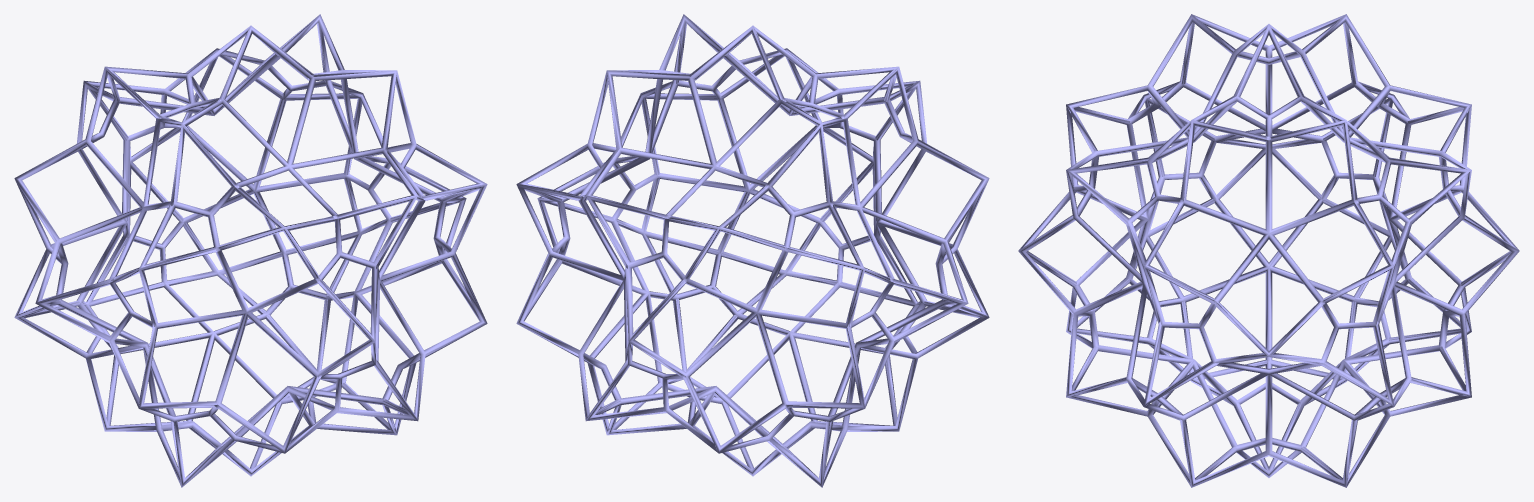
File: IcosidodecahedronK2.glb
3 views of the same model, side by side, from view 1: azimuth 30°, elevation 25°; view 2: azimuth 150°, elevation 25°; view 3: azimuth 270°, elevation 25° (orthographic).
Parts seen in each view (by area): view 1: Icosidodecahedron; view 2: Icosidodecahedron; view 3: Icosidodecahedron.
Boxes of the visible parts, left/top/right/bottom form: Icosidodecahedron: left=14, top=14, right=487, bottom=487; Icosidodecahedron: left=516, top=14, right=989, bottom=487; Icosidodecahedron: left=1018, top=14, right=1519, bottom=487.
Size of the model in its own units: 3.28 by 3.28 by 3.28.
